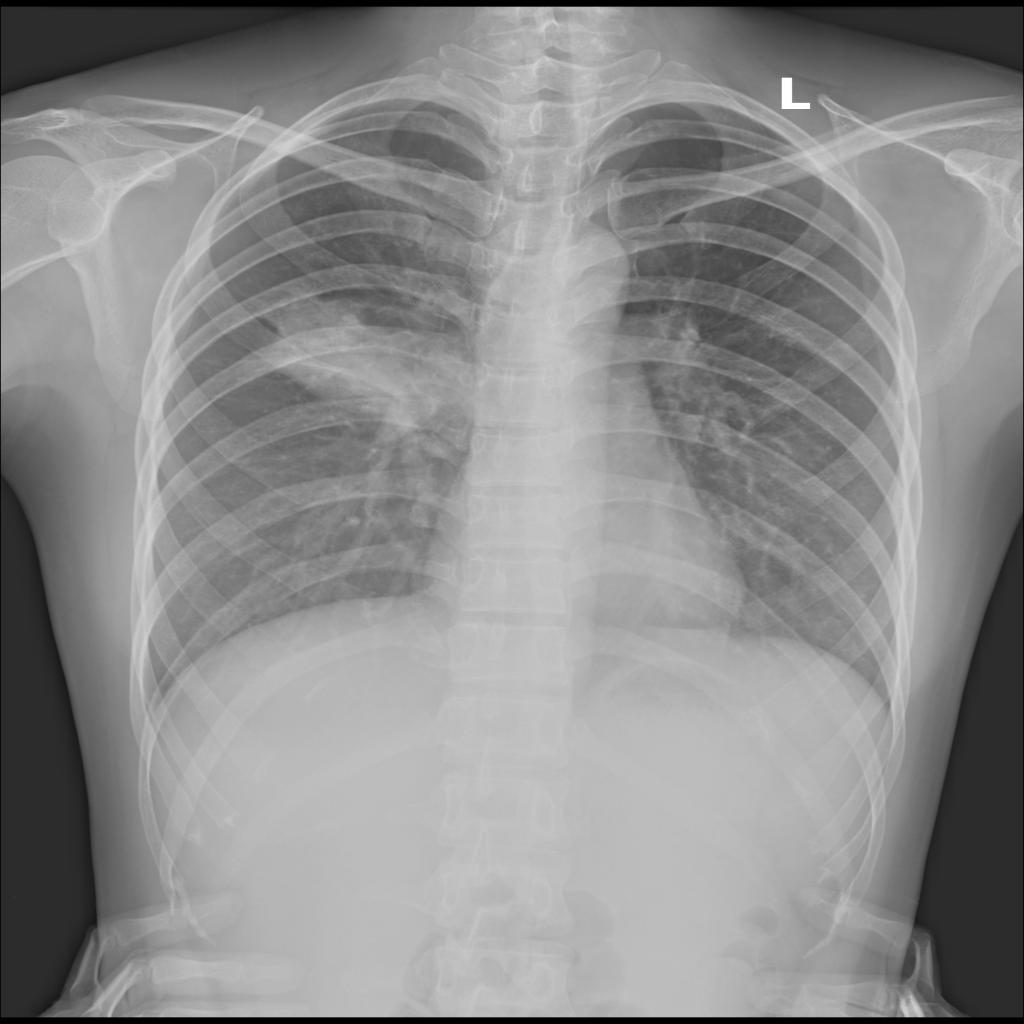Nodule: (266, 303, 437, 420)
